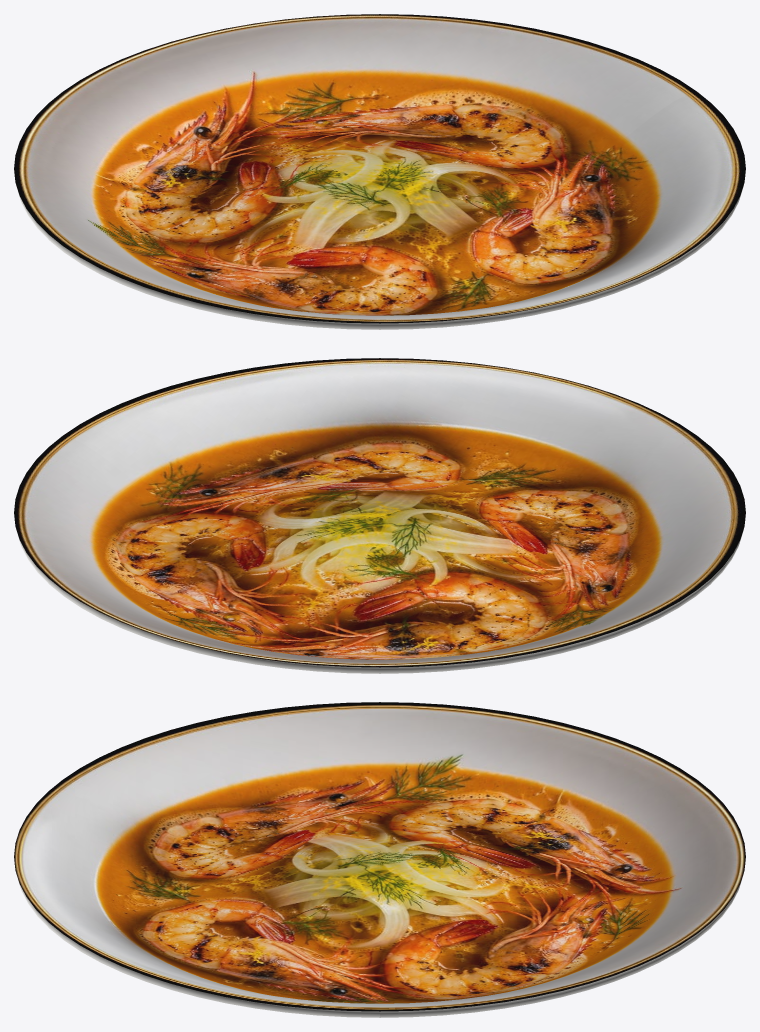
Rendered from camaroes.glb.
The picture shows the model from 3 angles, top to bottom: view 1: azimuth 30°, elevation 25°; view 2: azimuth 150°, elevation 25°; view 3: azimuth 270°, elevation 25°; orthographic projection.
Visible parts, largest first — view 1: dish; view 2: dish; view 3: dish.
Boxes of the visible parts, <box> form: dish: <box>14,14,745,329</box>; dish: <box>14,358,745,673</box>; dish: <box>14,702,745,1017</box>.
Bounding box in the file's own units: 0.28 × 0.025 × 0.28.
2 materials, 1 textured.
